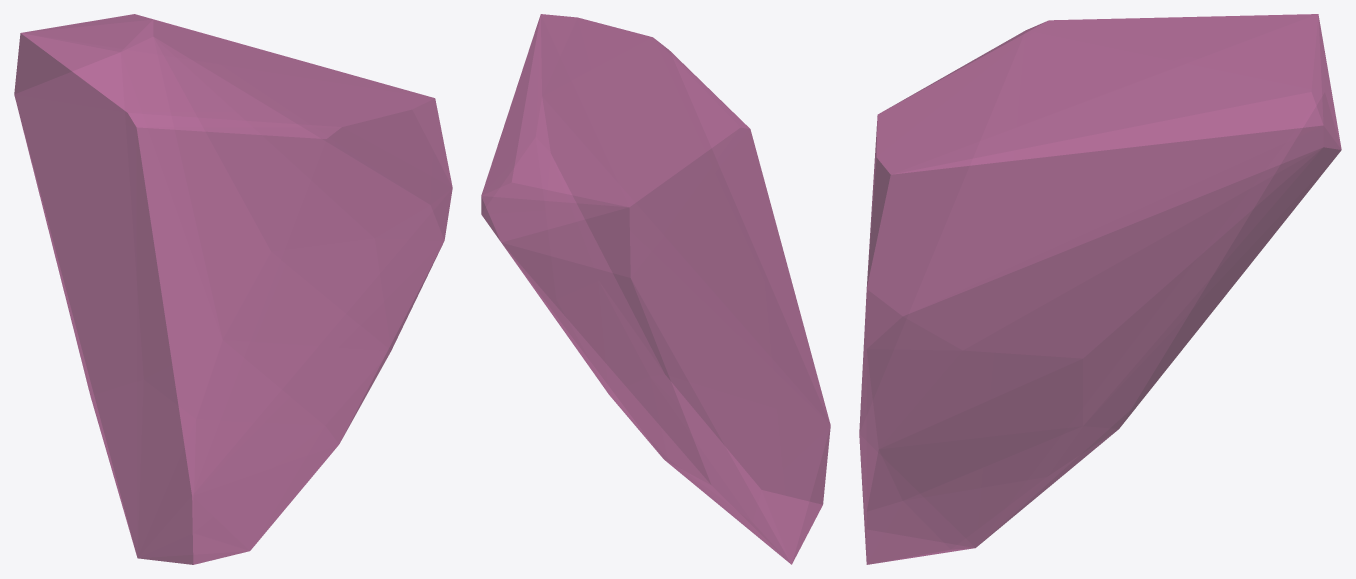
The picture shows the model from 3 angles, left to right: view 1: azimuth 30°, elevation 25°; view 2: azimuth 150°, elevation 25°; view 3: azimuth 270°, elevation 25°; orthographic projection. The views are drawn at different scales.
Parts seen in each view (by area): view 1: Shape_IndexedFaceSet.007_Shape_IndexedFaceSet.16777; view 2: Shape_IndexedFaceSet.007_Shape_IndexedFaceSet.16777; view 3: Shape_IndexedFaceSet.007_Shape_IndexedFaceSet.16777.
Part boxes in pixels (x1,y1,x2,y2): Shape_IndexedFaceSet.007_Shape_IndexedFaceSet.16777: (14,14,452,564); Shape_IndexedFaceSet.007_Shape_IndexedFaceSet.16777: (481,14,830,564); Shape_IndexedFaceSet.007_Shape_IndexedFaceSet.16777: (859,14,1341,564).
Bounding box in the file's own units: 0.2525 × 0.3747 × 0.301.
